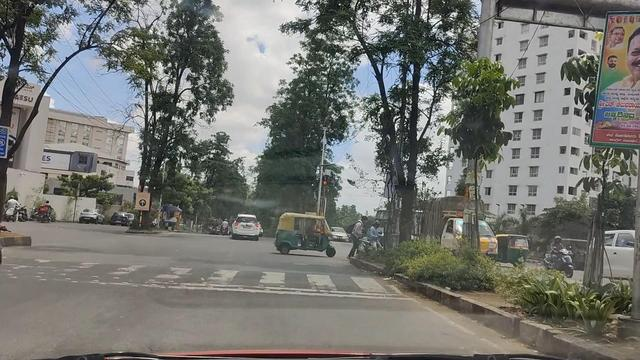LMV: (271, 213, 334, 255)
SpeedBump: (3, 260, 387, 294)
